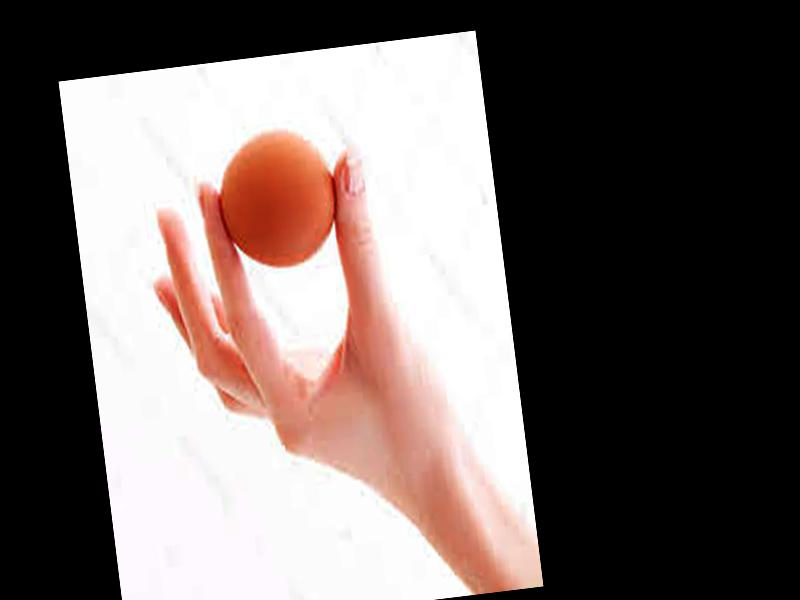Eggs: (211, 126, 344, 271)
